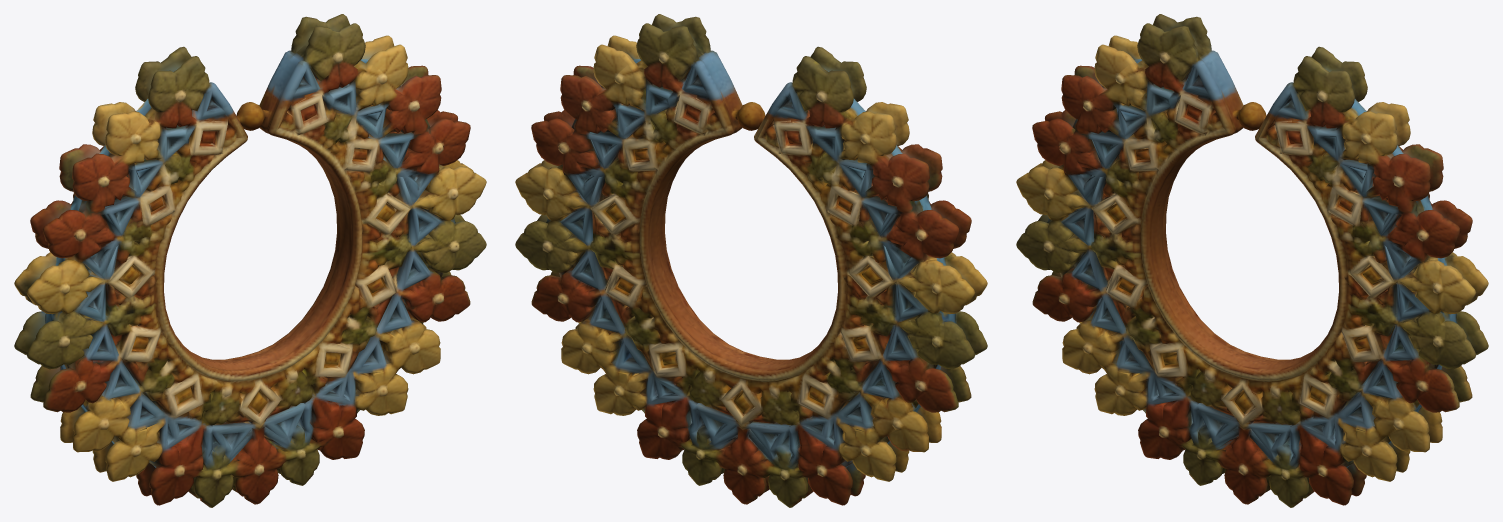
Rendered from collar.fbx.
3 views of the same model, side by side, from view 1: azimuth 30°, elevation 25°; view 2: azimuth 150°, elevation 25°; view 3: azimuth 330°, elevation 25° (orthographic).
Visible parts, largest first — view 1: mesh_rep_0_ori_repair_quad; view 2: mesh_rep_0_ori_repair_quad; view 3: mesh_rep_0_ori_repair_quad.
Boxes of the visible parts, x1,y1,x2,y2 form: mesh_rep_0_ori_repair_quad: (14,14,486,507); mesh_rep_0_ori_repair_quad: (515,14,987,507); mesh_rep_0_ori_repair_quad: (1016,14,1488,507).
Bounding box in the file's own units: 280 × 270 × 23.09.
1 material, 1 textured.
